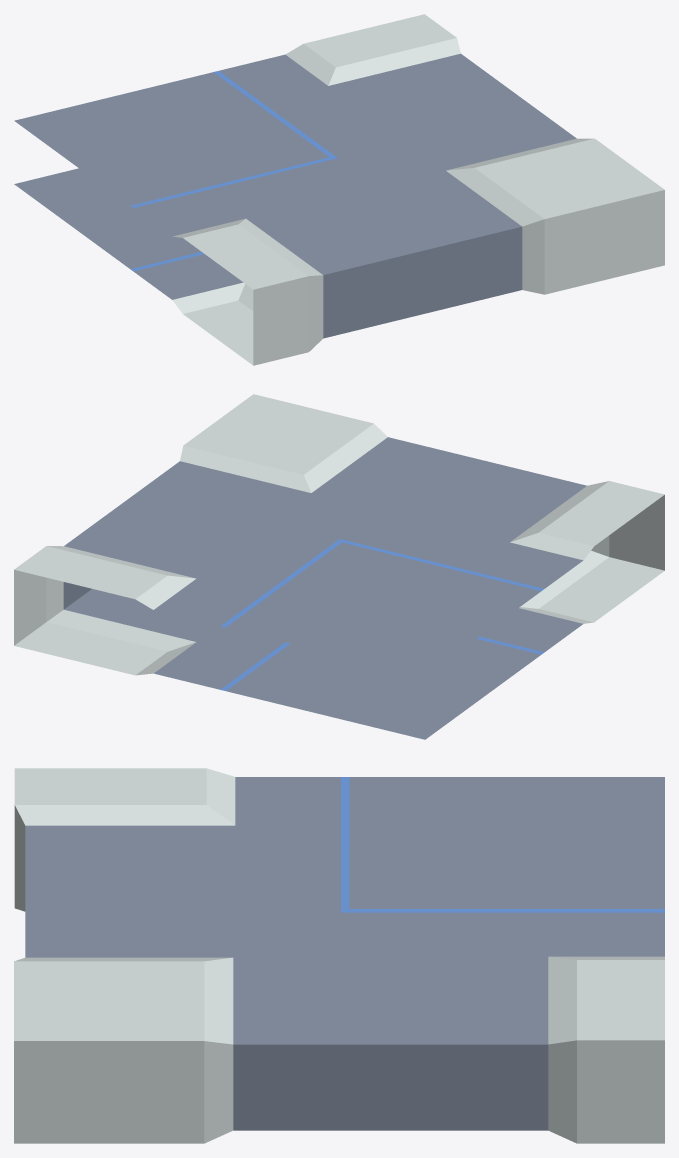
File: moduloPlataformaCorner.fbx
3 renders of one model, top to bottom at view 1: azimuth 30°, elevation 25°; view 2: azimuth 150°, elevation 25°; view 3: azimuth 270°, elevation 25°, orthographic. The views are drawn at different scales.
Parts seen in each view (by area): view 1: PlataformCorner; view 2: PlataformCorner; view 3: PlataformCorner.
Part boxes in pixels (box(x1,y1,x2,y2)): PlataformCorner: box(14, 14, 664, 365); PlataformCorner: box(14, 394, 664, 739); PlataformCorner: box(14, 768, 664, 1143).
Size of the model in its own units: 339 by 60 by 343.
1 material, 1 textured.
